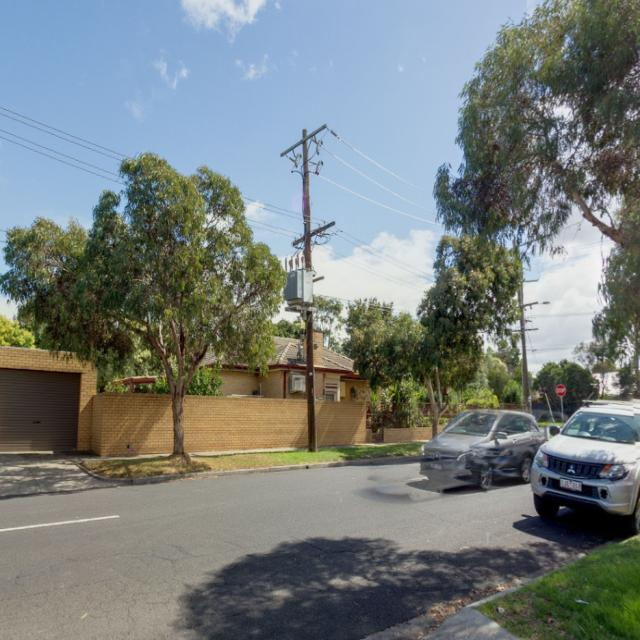HV-transmission: (280, 123, 338, 179)
crossarm: (280, 123, 328, 156), (291, 220, 336, 248), (512, 328, 538, 332), (524, 301, 538, 307)
timber-pole: (303, 127, 318, 454), (513, 238, 530, 412)
transformer: (279, 256, 315, 314)
